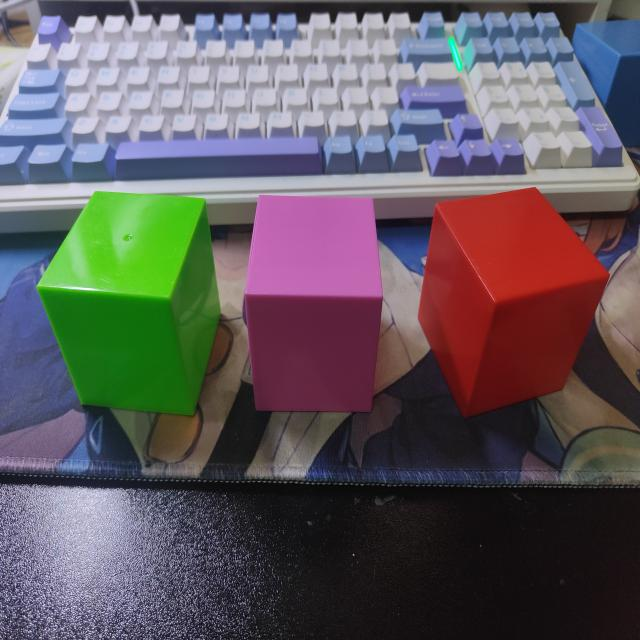green: (36, 192, 221, 420)
pink: (243, 196, 383, 416)
red: (417, 188, 610, 420)
